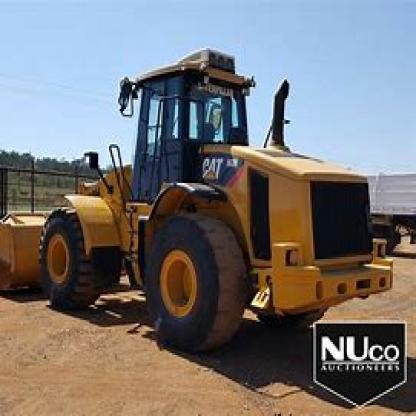bull_dozer/loader/grader: (0, 46, 411, 353)
